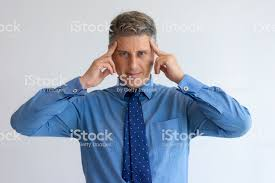white_male: (104, 23, 160, 83)
